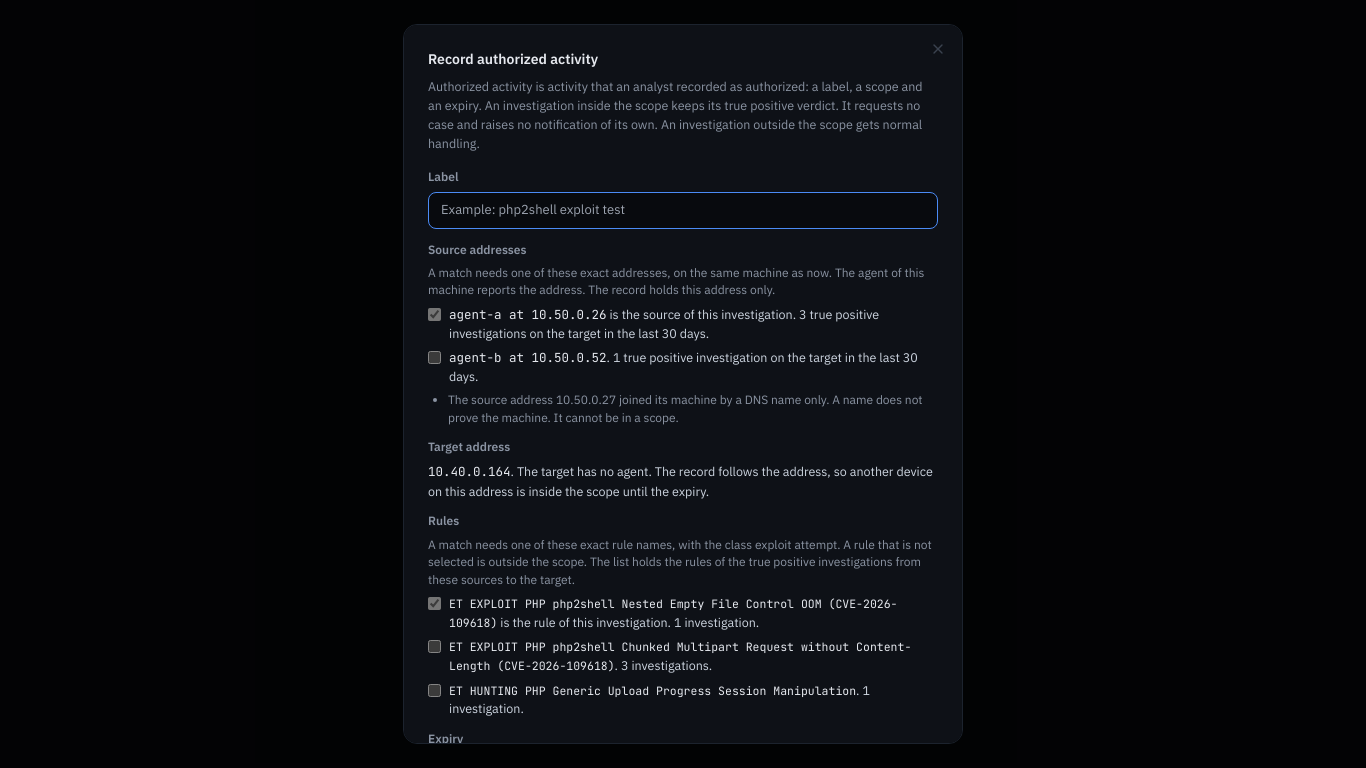
Scenario: the authorized activity dialog › keeps the form and says that the save needs an admin
Step 1. Type "t" into the field labelled "Label" → coordinates (683, 210), box [428,192,938,228]
(page scrolled)
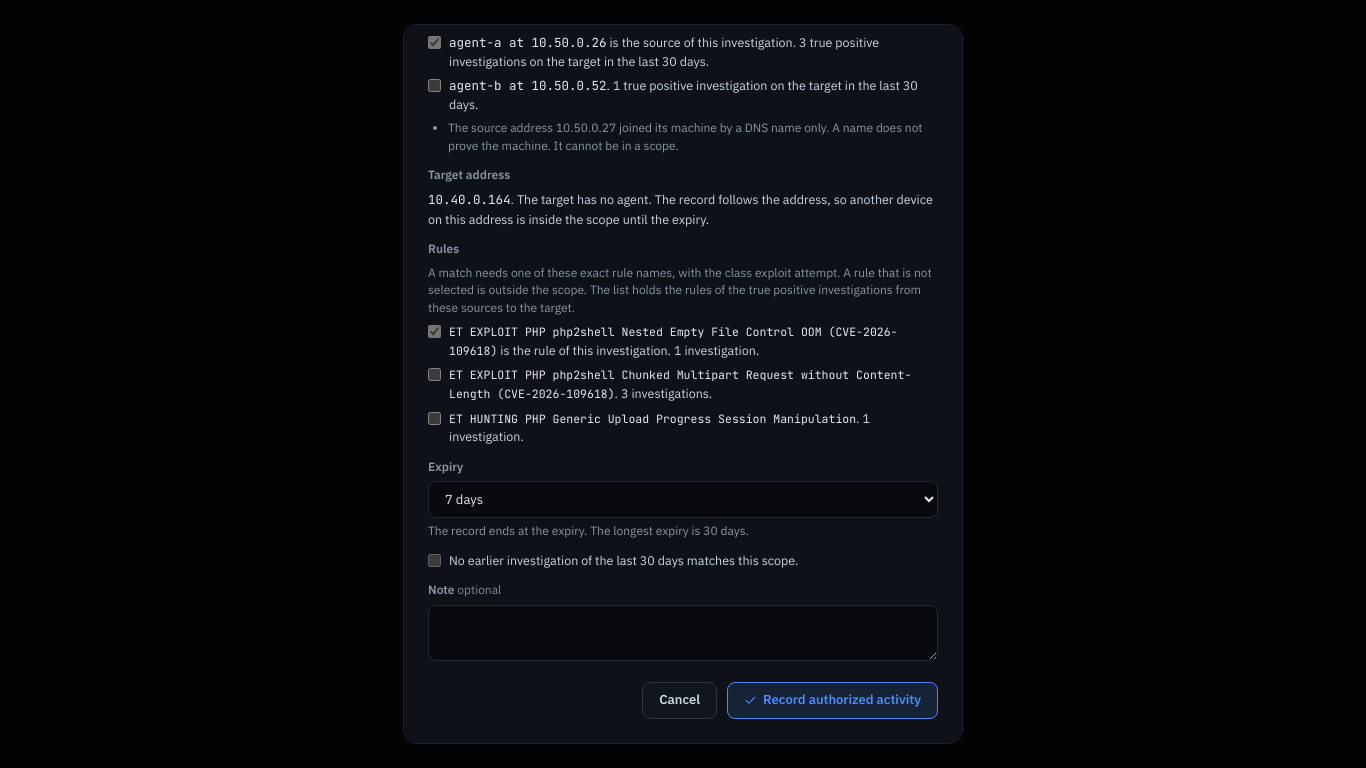
Step 2. Click the button "Record authorized activity" → coordinates (833, 700), box [727,682,938,719]
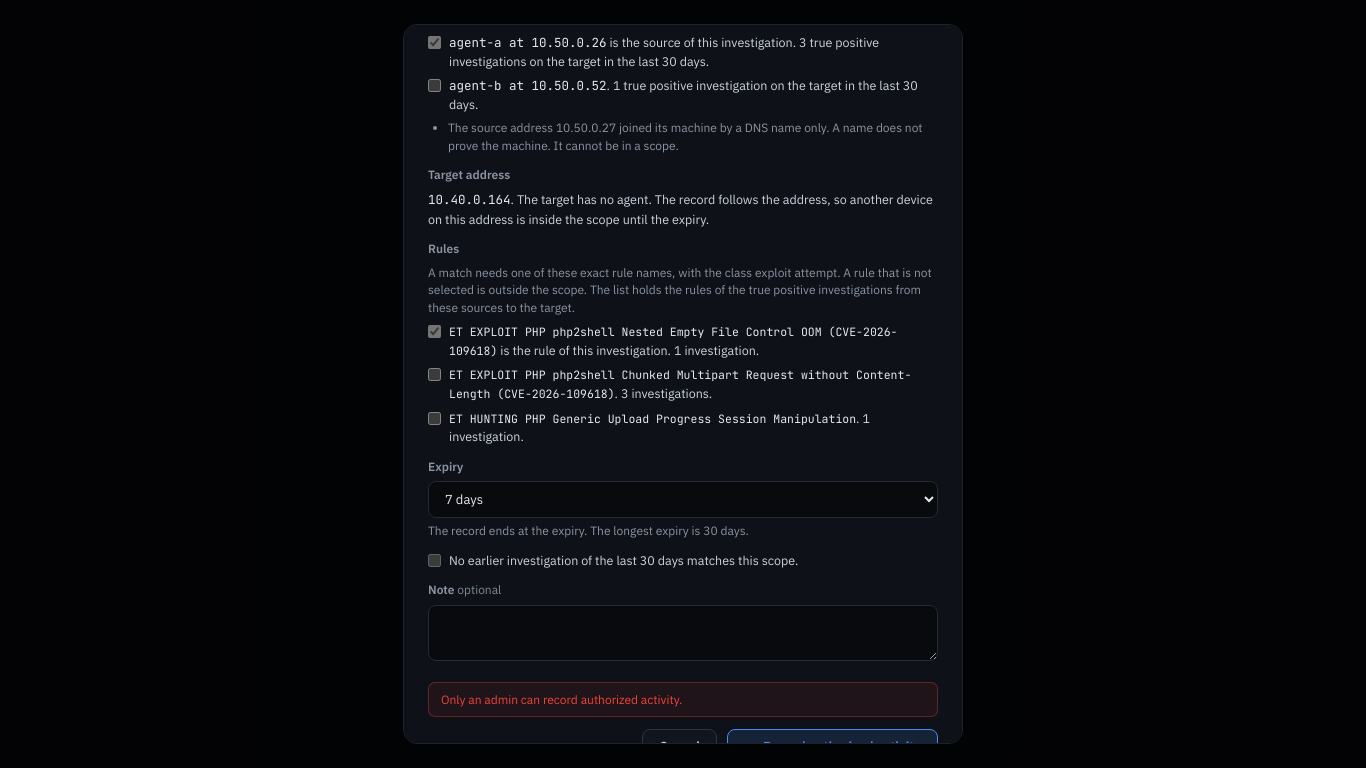
Result: the message reads "Only an admin can record authorized activity." at [441,692,682,707]
